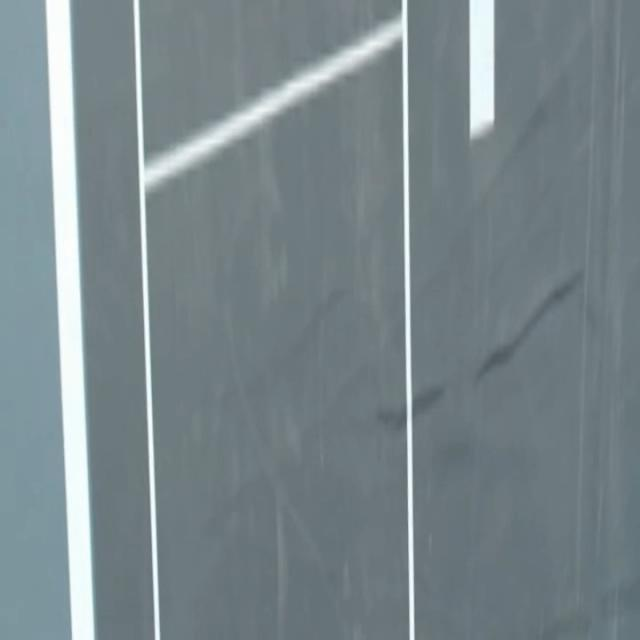center: (469, 0, 494, 140)
left: (45, 0, 94, 639)
